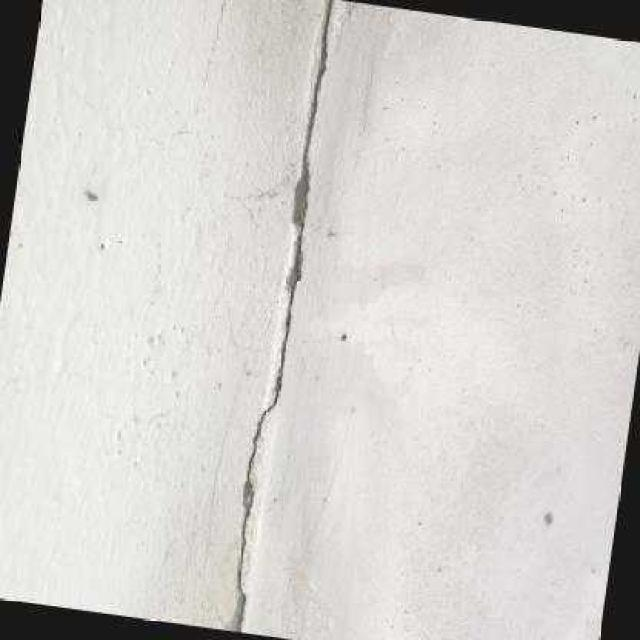D00: (226, 0, 332, 632)
